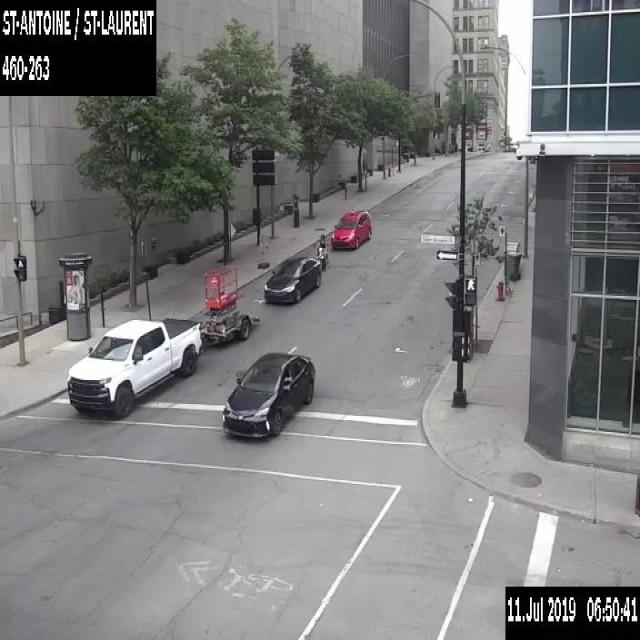vehicle: (65, 262, 259, 420), (221, 346, 315, 438), (263, 256, 321, 302), (330, 208, 372, 249), (312, 232, 329, 270)
